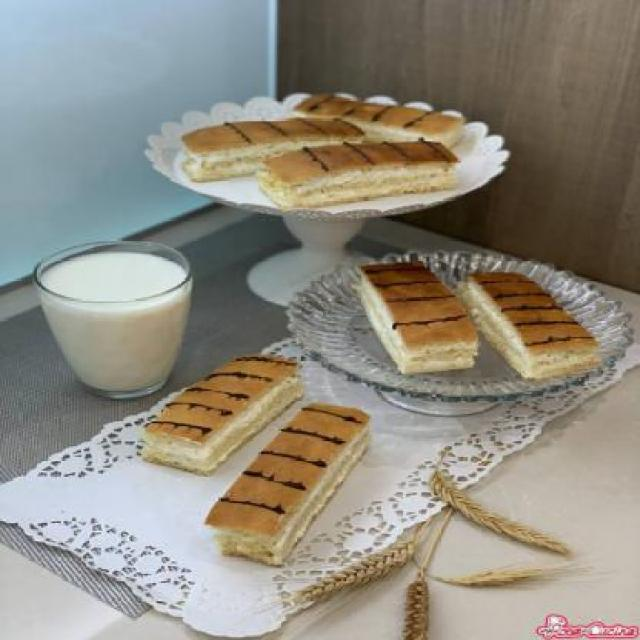Merendine packaged: (208, 402, 376, 566), (144, 354, 304, 472), (462, 267, 600, 378), (351, 258, 483, 374), (262, 140, 460, 208), (182, 116, 364, 186), (283, 91, 467, 158)
